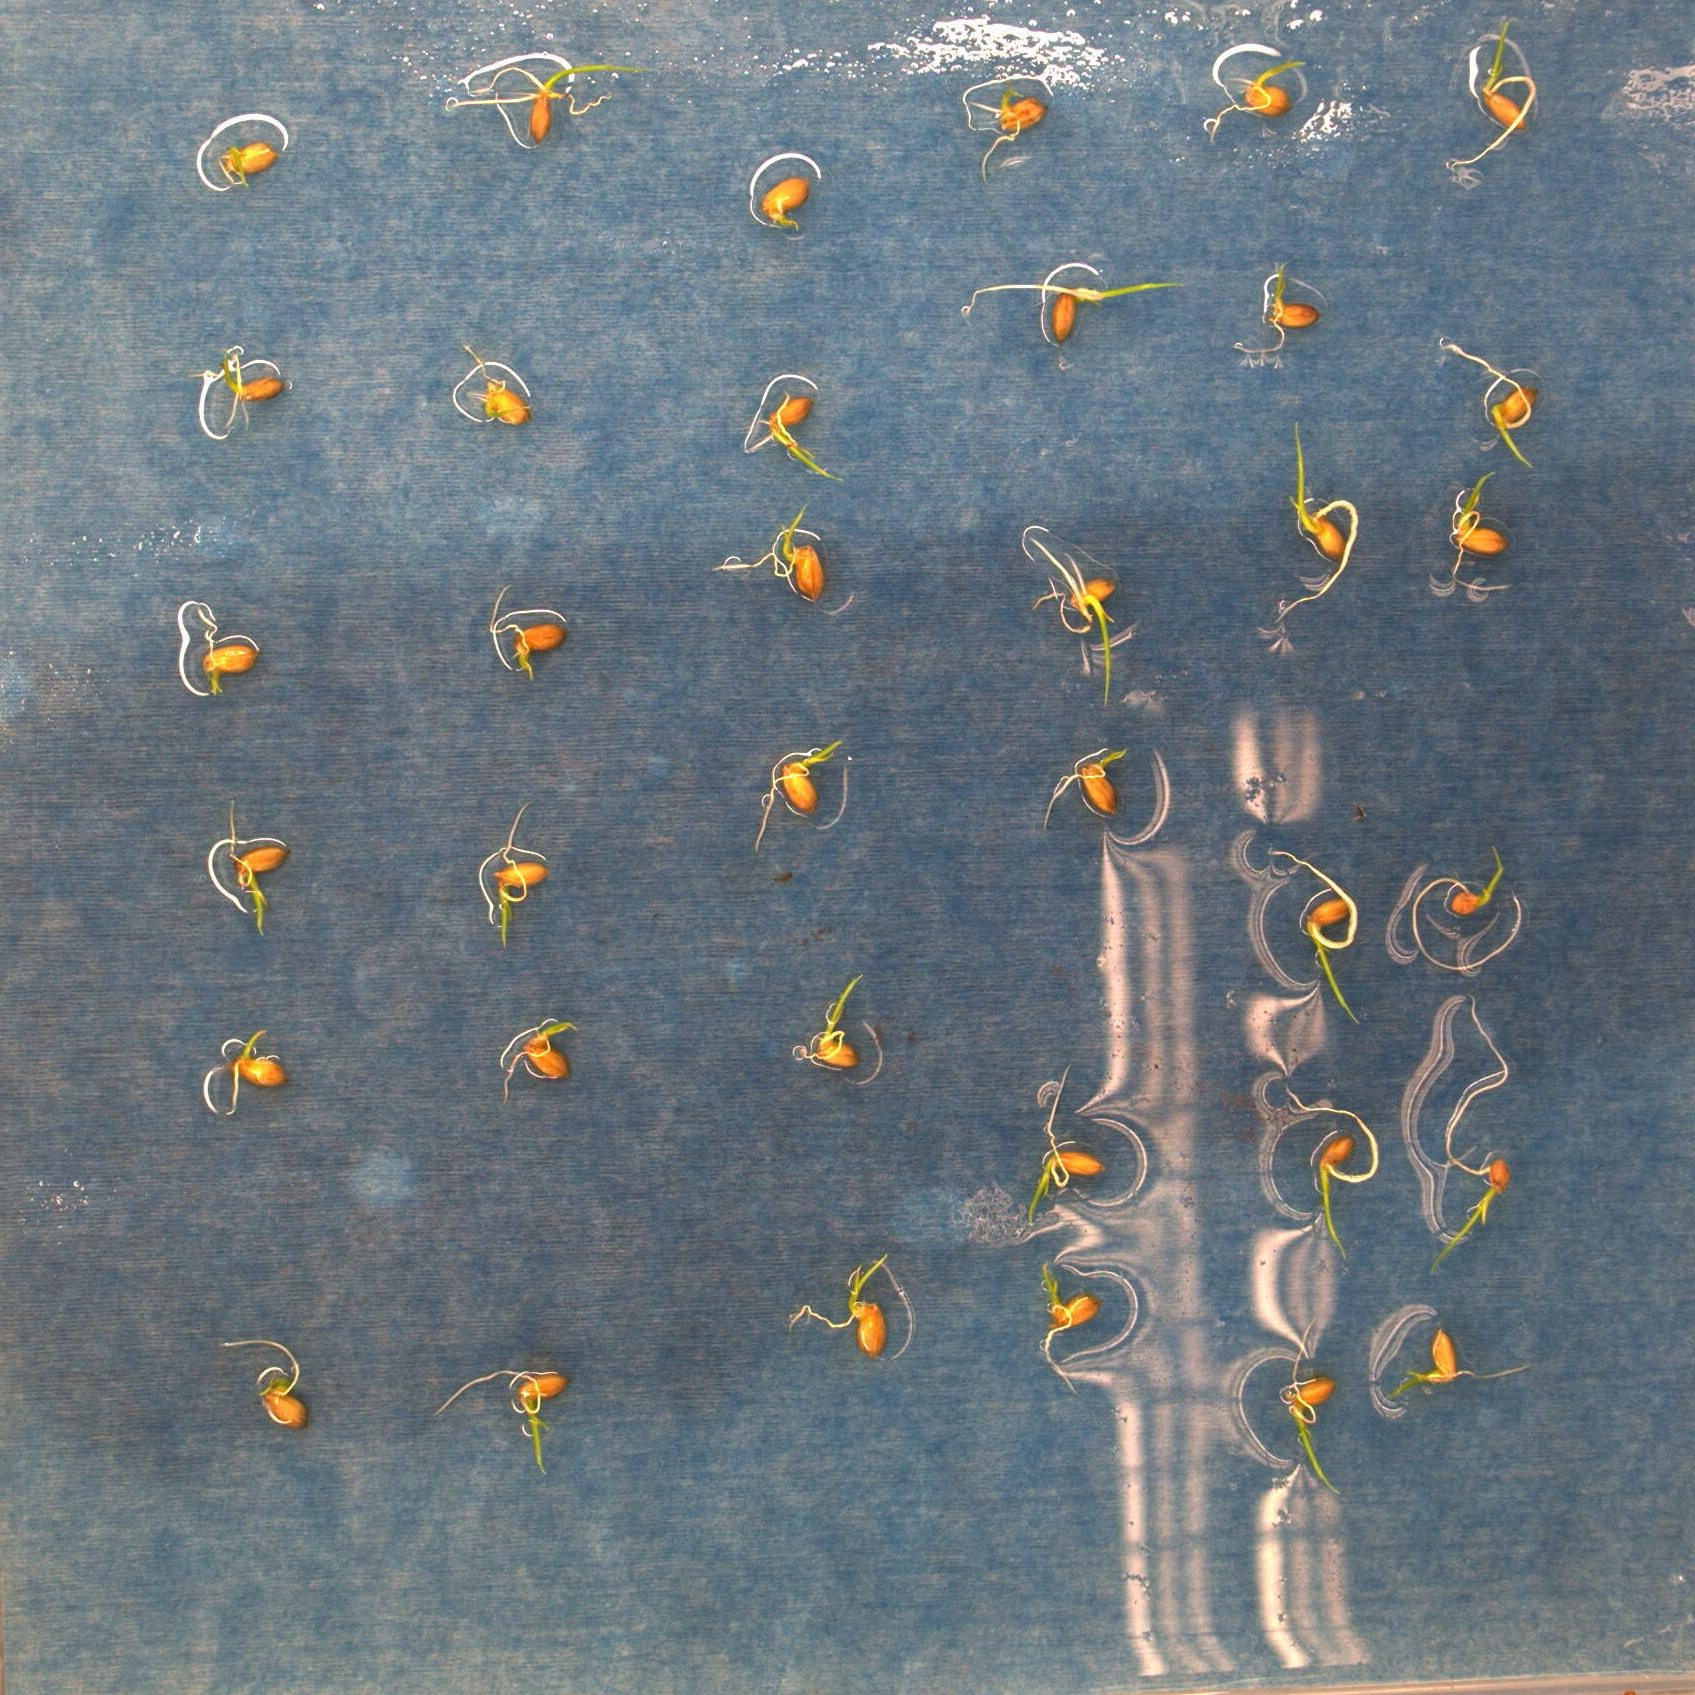sprout: (1428, 993, 1512, 1277), (1274, 424, 1360, 624), (1284, 1083, 1378, 1263), (452, 64, 649, 146), (1029, 536, 1119, 708), (1271, 852, 1363, 1021), (432, 1367, 573, 1476), (961, 281, 1187, 345), (1411, 844, 1523, 972), (1451, 16, 1538, 172), (1439, 338, 1538, 470), (1028, 1066, 1108, 1225), (787, 1253, 891, 1360), (714, 503, 826, 602), (1386, 1327, 1534, 1402), (754, 739, 843, 854), (747, 390, 847, 483), (1287, 1315, 1338, 1496), (227, 799, 290, 938), (1232, 261, 1322, 355), (1209, 61, 1309, 144), (969, 81, 1049, 183), (497, 798, 553, 945), (489, 582, 573, 680), (1040, 1262, 1102, 1394), (220, 1338, 309, 1430), (1451, 469, 1512, 591), (1042, 747, 1128, 832), (501, 1021, 577, 1107), (804, 972, 868, 1069), (196, 607, 261, 695), (463, 345, 532, 427), (225, 1028, 289, 1114), (222, 346, 286, 428), (216, 141, 278, 189), (761, 177, 809, 231)
